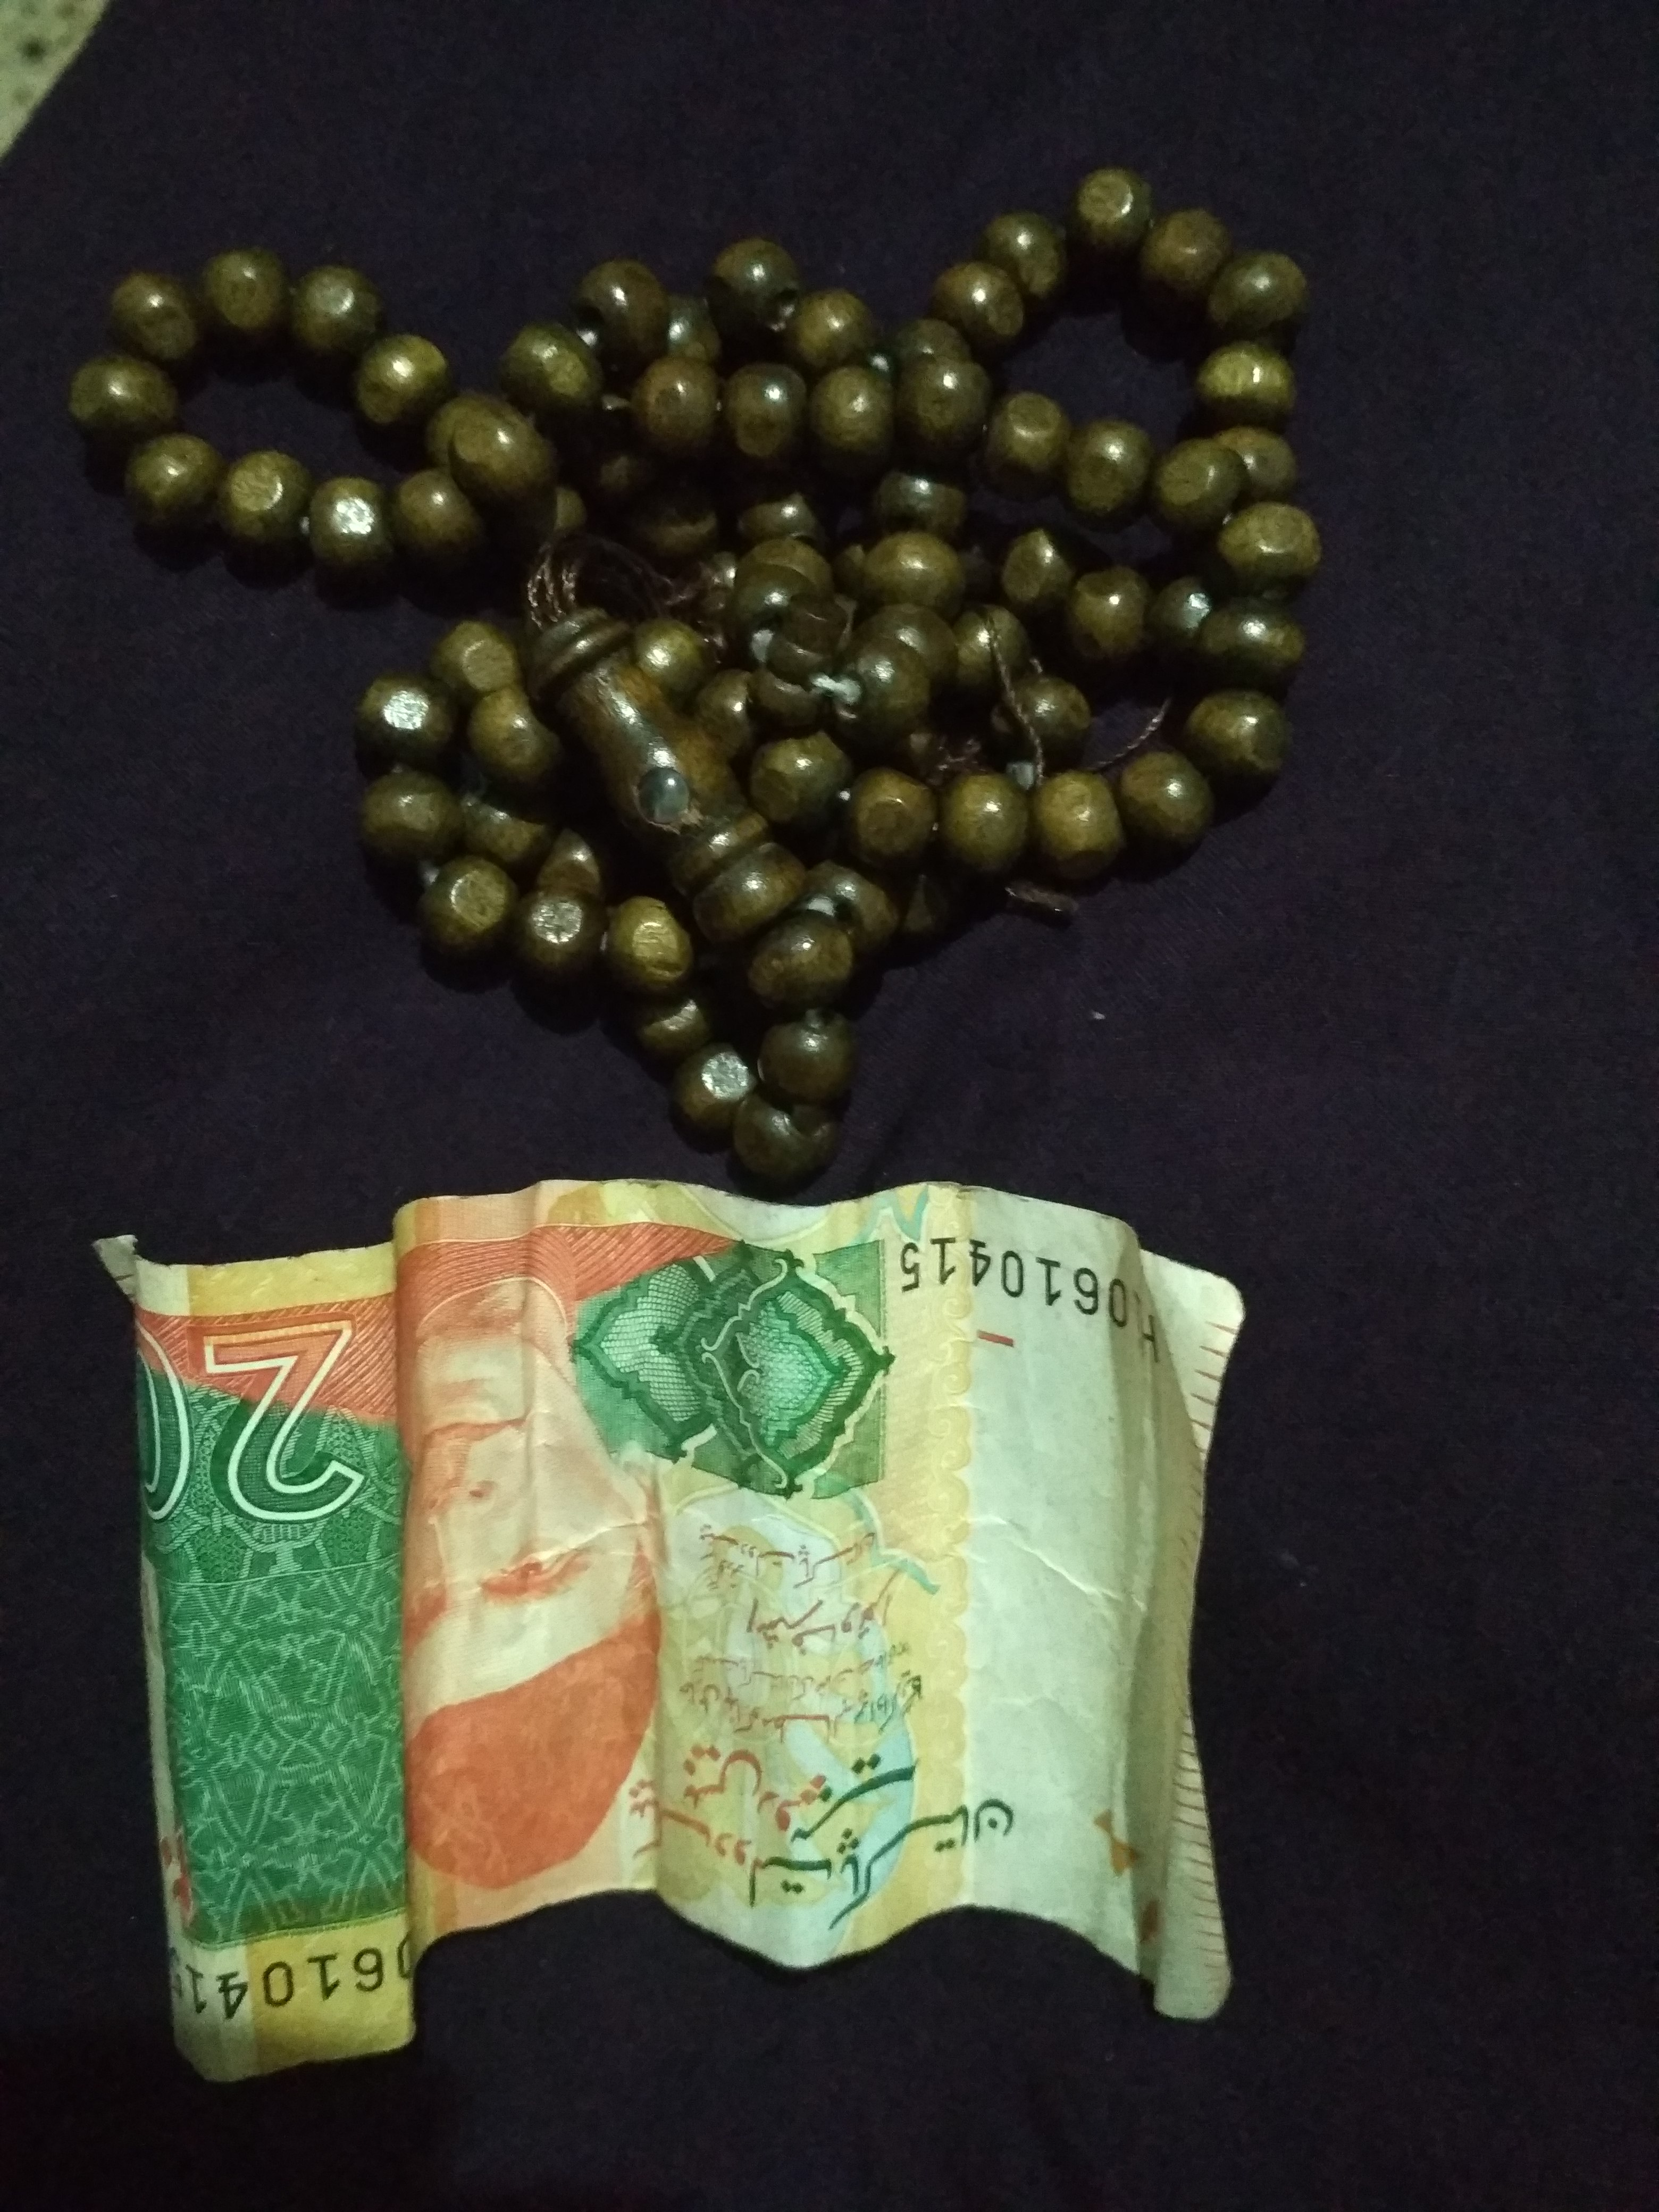20 rupee: (82, 1134, 1361, 2132)
